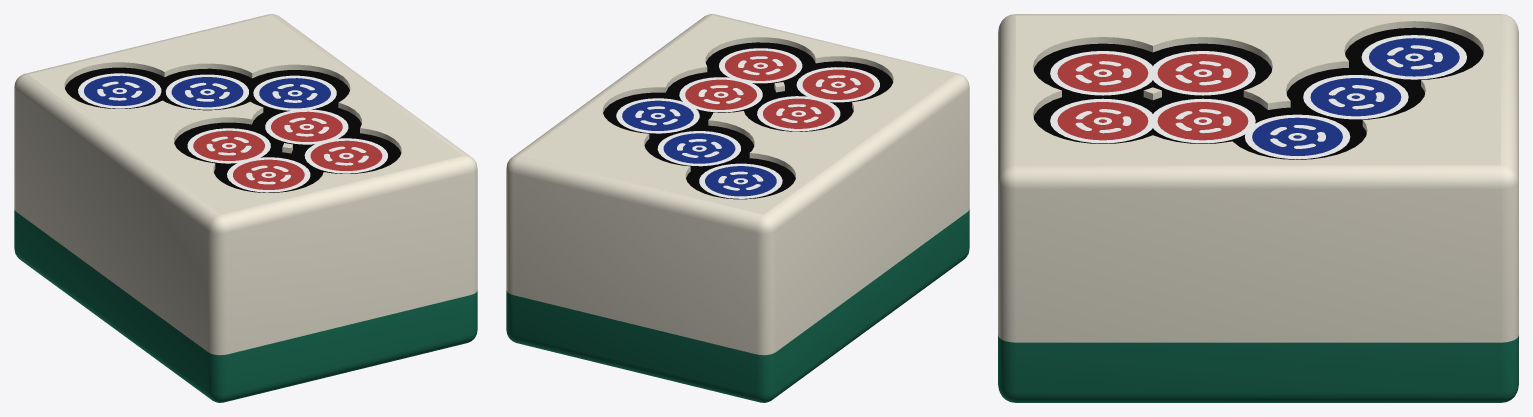
File: Pin7.glb
3 views of the same model, side by side, from view 1: azimuth 30°, elevation 25°; view 2: azimuth 150°, elevation 25°; view 3: azimuth 270°, elevation 25° (orthographic). The views are drawn at different scales.
Visible parts, largest first — view 1: Pin7_body, Pin7_inset; view 2: Pin7_body, Pin7_inset; view 3: Pin7_body, Pin7_inset.
Boxes of the visible parts, x1,y1,x2,y2 form: Pin7_body: [14, 14, 477, 402]; Pin7_inset: [65, 67, 401, 192]; Pin7_body: [506, 14, 969, 402]; Pin7_inset: [603, 42, 893, 199]; Pin7_body: [998, 14, 1518, 402]; Pin7_inset: [1033, 27, 1483, 159].
Size of the model in its own units: 0.024 by 0.016 by 0.032.
